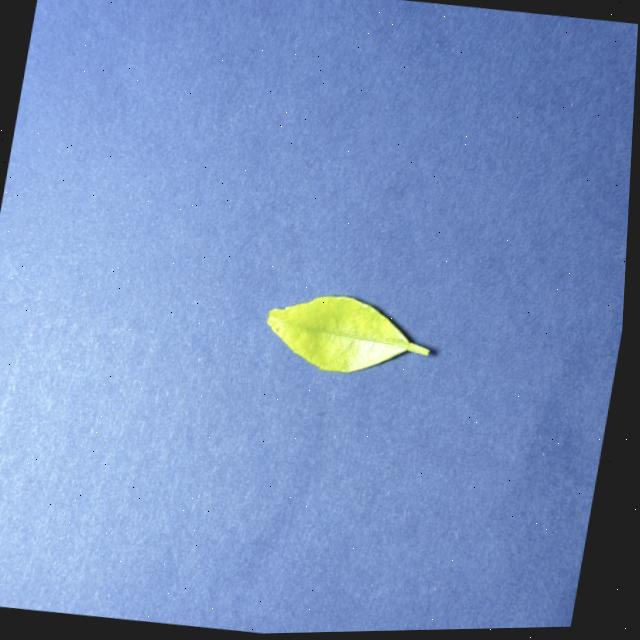greening: (267, 295, 429, 371)
